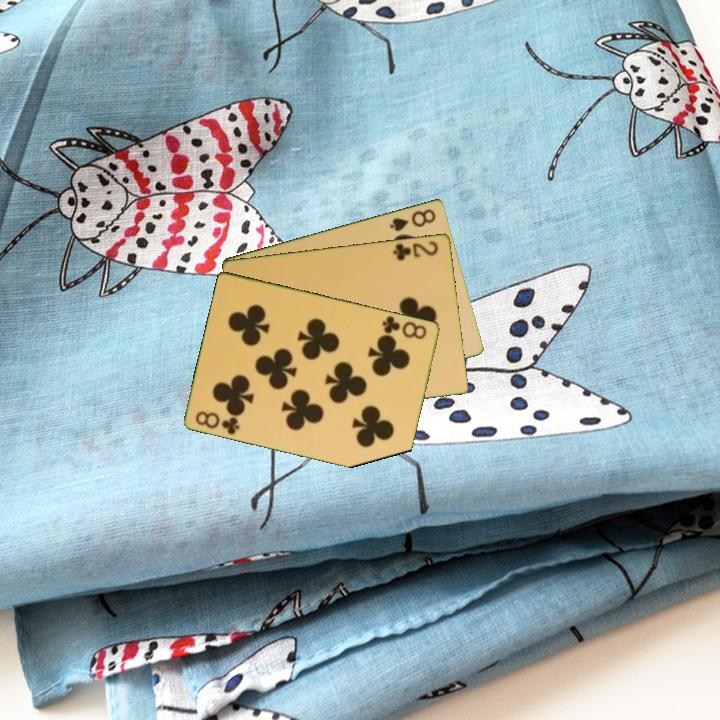2c: (389, 237, 441, 263)
8c: (379, 312, 430, 342), (192, 407, 243, 437)
8s: (386, 205, 439, 234)
